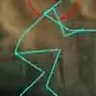hacks_2: (14, 1, 95, 96)
